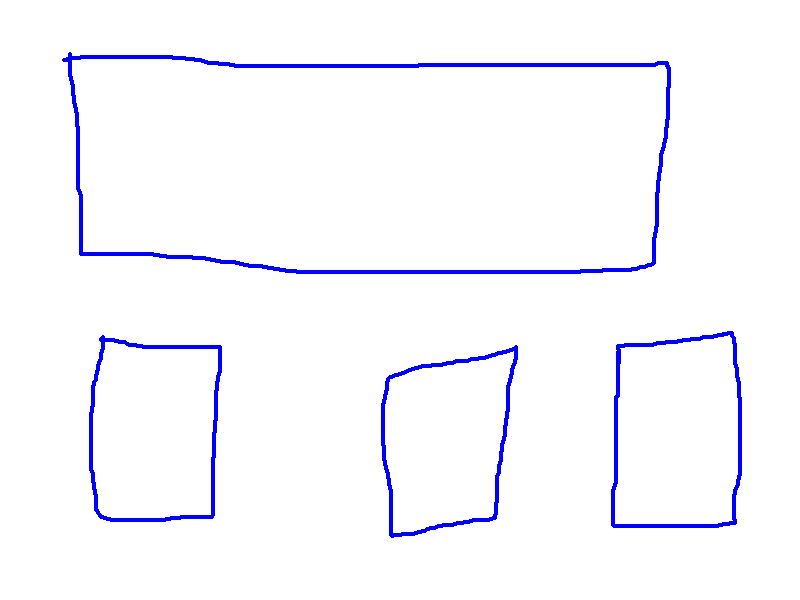rect: (58, 48, 675, 283), (375, 337, 522, 543), (603, 326, 746, 534), (84, 332, 224, 531)
